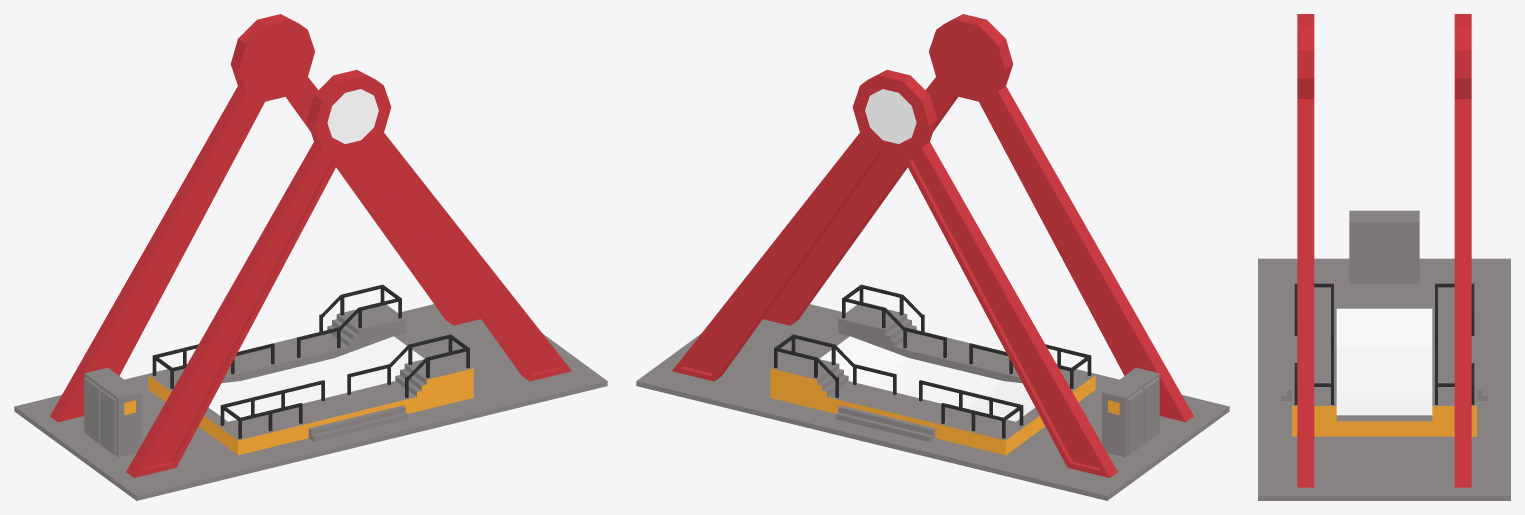
The model's file is ferris-wheel-stand.glb.
The picture shows the model from 3 angles, left to right: view 1: azimuth 30°, elevation 25°; view 2: azimuth 150°, elevation 25°; view 3: azimuth 270°, elevation 25°; orthographic projection. The views are drawn at different scales.
Visible parts, largest first — view 1: ferris-wheel-stand; view 2: ferris-wheel-stand; view 3: ferris-wheel-stand.
Boxes of the visible parts, <box> form: ferris-wheel-stand: <box>14,14,607,500</box>; ferris-wheel-stand: <box>636,14,1229,500</box>; ferris-wheel-stand: <box>1258,14,1510,500</box>.
Bounding box in the file's own units: 20 × 14.24 × 9.
Materials: 1 (1 with a texture image).
